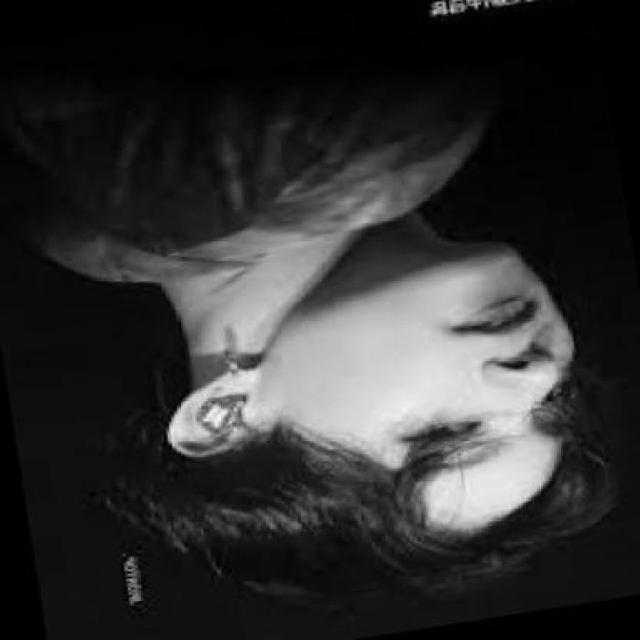earphone: (198, 392, 256, 453)
